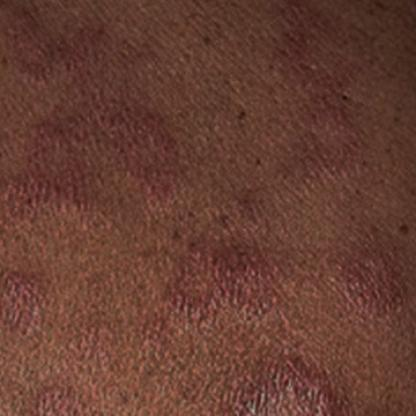Leprosy: (0, 0, 186, 210), (234, 14, 415, 180), (143, 222, 284, 333), (305, 222, 415, 340), (210, 345, 346, 415), (0, 258, 53, 354)
